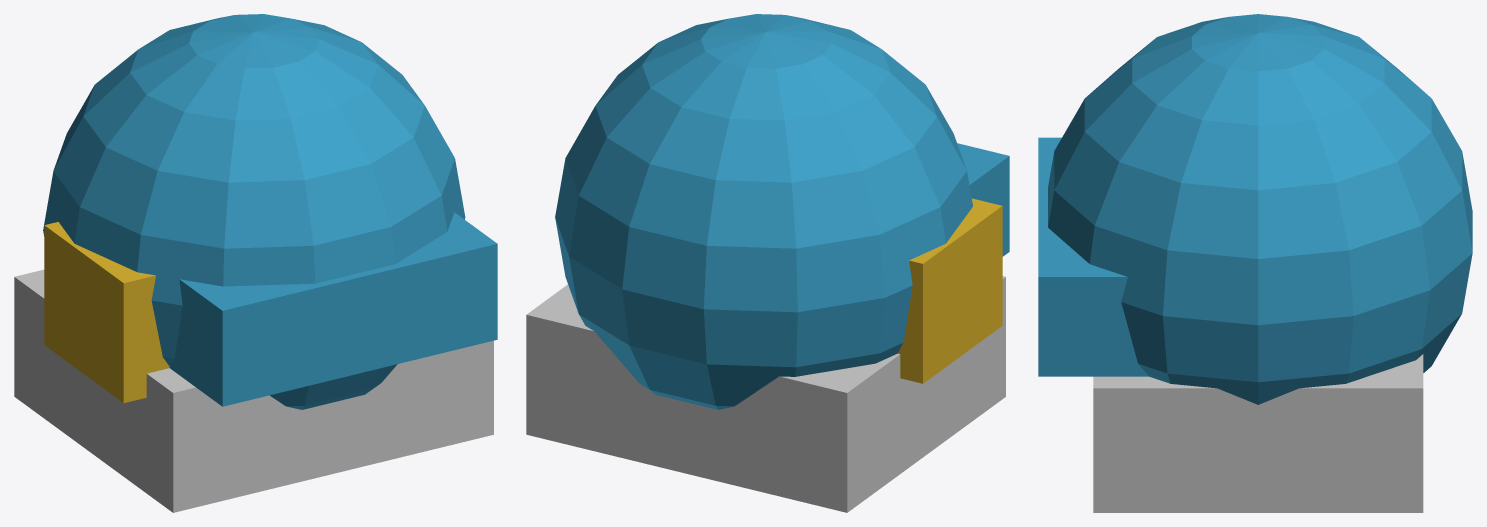
Rendered from apex_helmet.obj.
The picture shows the model from 3 angles, left to right: view 1: azimuth 30°, elevation 25°; view 2: azimuth 150°, elevation 25°; view 3: azimuth 270°, elevation 25°; orthographic projection. The views are drawn at different scales.
Visible parts, largest first — view 1: apex_helmet; view 2: apex_helmet; view 3: apex_helmet.
Boxes of the visible parts, <box> form: apex_helmet: <box>14,14,497,512</box>; apex_helmet: <box>526,14,1009,512</box>; apex_helmet: <box>1038,14,1472,512</box>.
Size of the model in its own units: 0.32 by 0.32 by 0.316.
